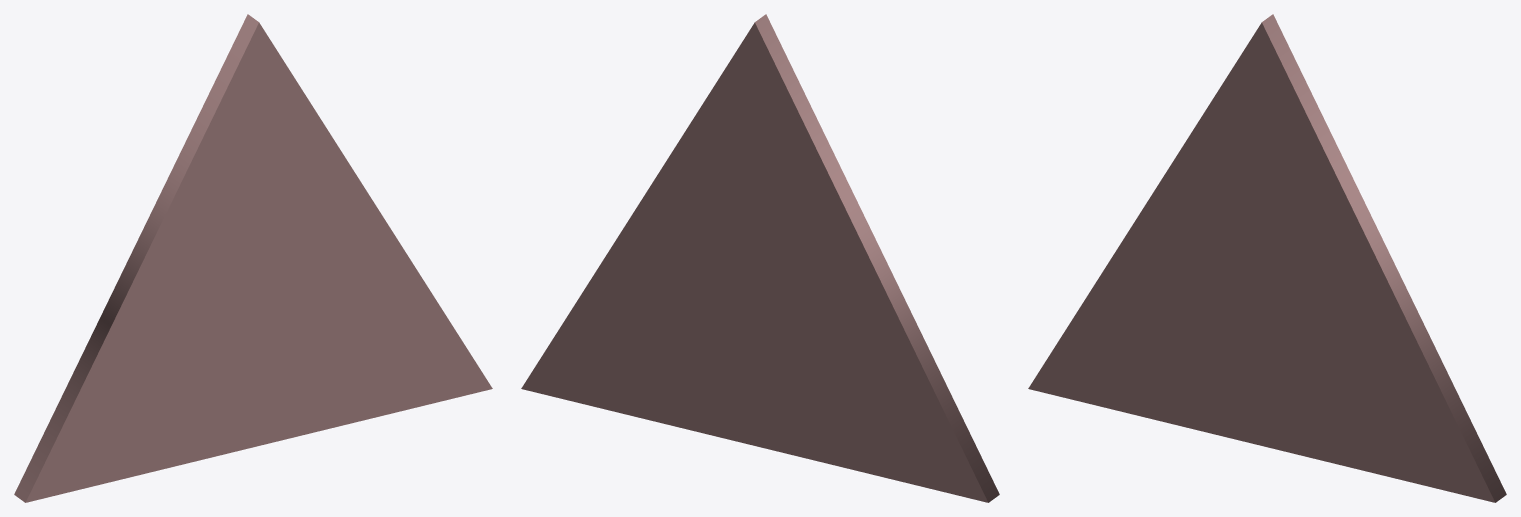
Rendered from TriangleTriggerCollision01.FBX.
3 renders of one model, left to right at view 1: azimuth 30°, elevation 25°; view 2: azimuth 150°, elevation 25°; view 3: azimuth 330°, elevation 25°, orthographic.
Parts seen in each view (by area): view 1: TriangleTriggerCollision01; view 2: TriangleTriggerCollision01; view 3: TriangleTriggerCollision01.
Boxes of the visible parts, left/top/right/bottom form: TriangleTriggerCollision01: left=14, top=14, right=492, bottom=502; TriangleTriggerCollision01: left=521, top=14, right=999, bottom=502; TriangleTriggerCollision01: left=1028, top=14, right=1506, bottom=502.
Bounding box in the file's own units: 237 × 206 × 10.
